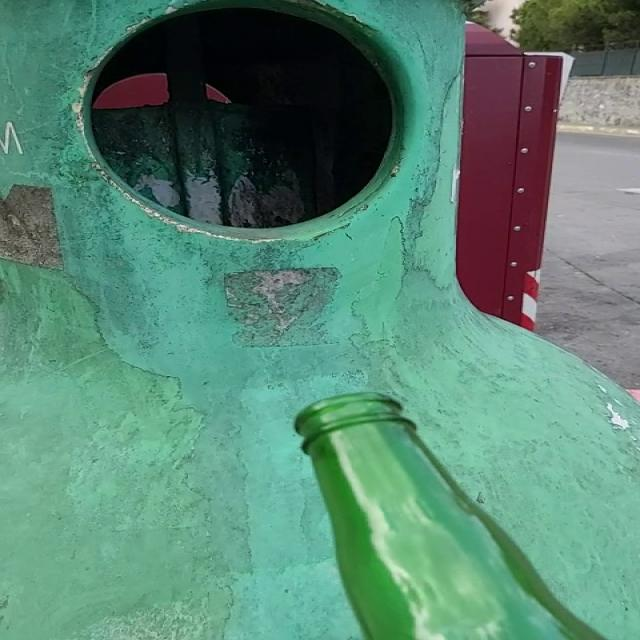glass: (295, 393, 605, 640)
